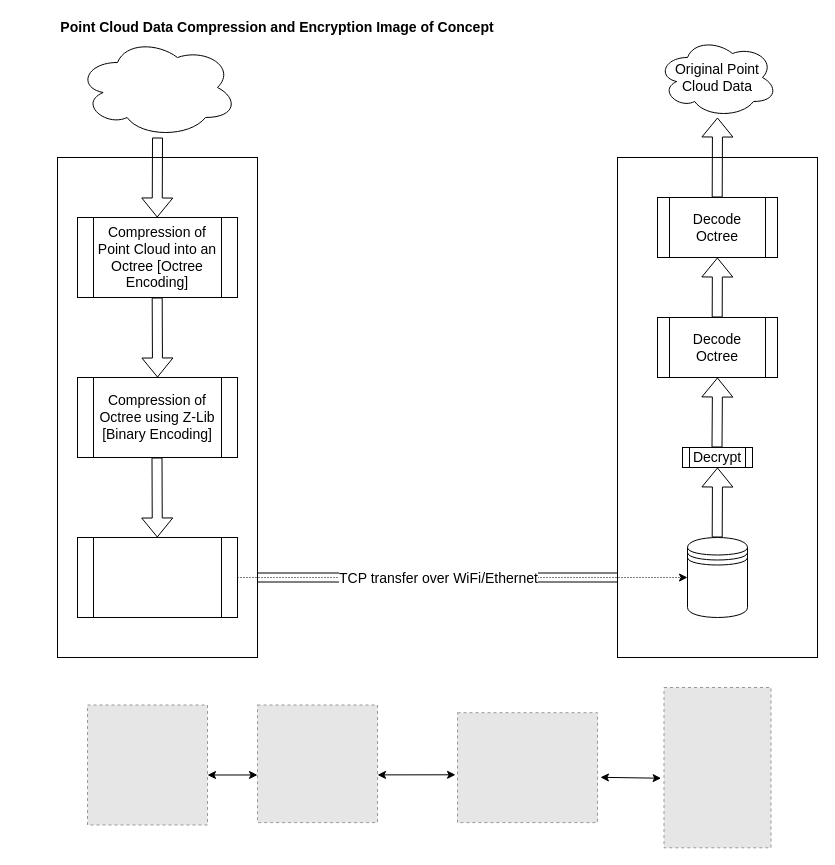
Some shapes in this 835 by 865 pixel diagram are drawn without their labels. Grey dashed boxes stand in for pictures. Here are the shapes that lost their labels. From the top down, the centre of each, then its label:
At (x=157, y=87): "Point Cloud Data [.pcd file OR from LiDAR]".
At (x=157, y=577): "Encrypt Octree data using AES-256".
At (x=717, y=577): "LiDAR Database".
